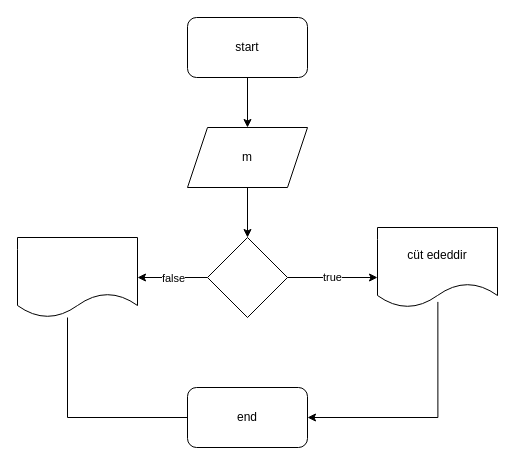
This 515x465 diagram has some shape labels left out. The centre of each missing label's shape, as x and y in pixels:
m % 2 == 0: (x=247, y=277)
tek ededdir: (x=77, y=277)
